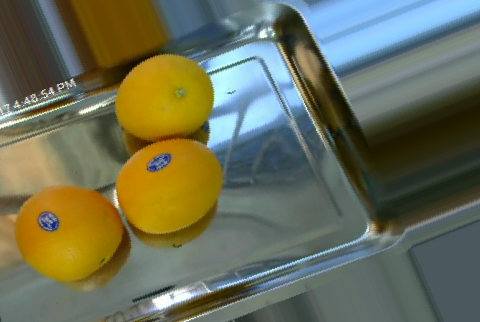Orange: (13, 184, 124, 281), (116, 139, 224, 233), (113, 54, 214, 140)
